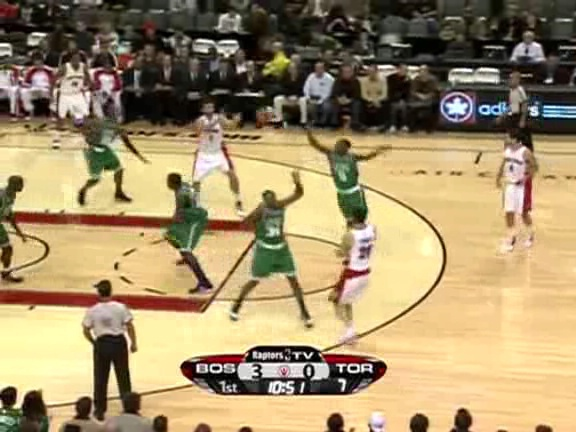person: (326, 143, 360, 224), (325, 143, 359, 224), (327, 143, 361, 224), (326, 142, 360, 223), (326, 144, 360, 225)
target_negative: (136, 190, 307, 372), (108, 309, 271, 432), (381, 304, 409, 385), (520, 344, 542, 396), (569, 54, 576, 105), (572, 199, 575, 310)
